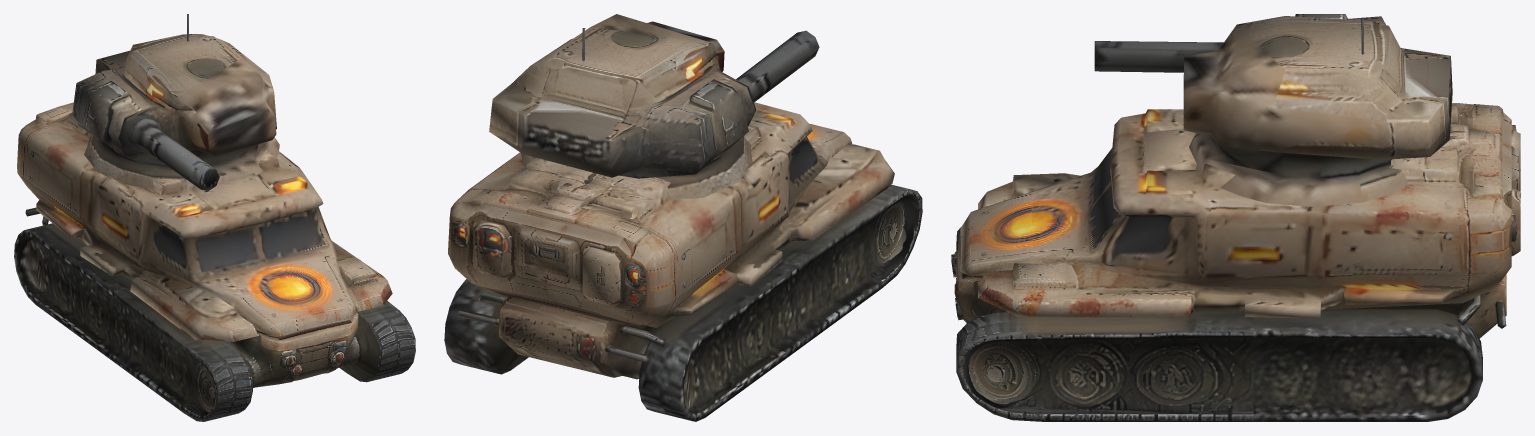
The model's file is player-tank.fbx.
The picture shows the model from 3 angles, left to right: view 1: azimuth 30°, elevation 25°; view 2: azimuth 150°, elevation 25°; view 3: azimuth 270°, elevation 25°; orthographic projection. The views are drawn at different scales.
Visible parts, largest first — view 1: TankBody, TankTurret; view 2: TankBody, TankTurret; view 3: TankBody, TankTurret.
Boxes of the visible parts, left/top/right/bottom form: TankBody: left=14, top=102, right=415, bottom=421; TankTurret: left=72, top=14, right=279, bottom=190; TankBody: left=444, top=102, right=922, bottom=421; TankTurret: left=489, top=14, right=819, bottom=199; TankBody: left=951, top=103, right=1520, bottom=421; TankTurret: left=1094, top=14, right=1452, bottom=206.
Bounding box in the file's own units: 117 × 227 × 157.
Materials: 1 (1 with a texture image).
